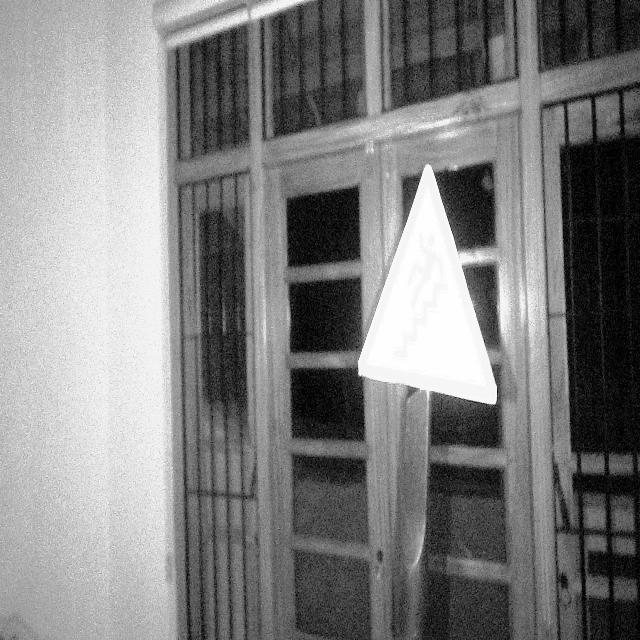Sign: (356, 162, 500, 406)
